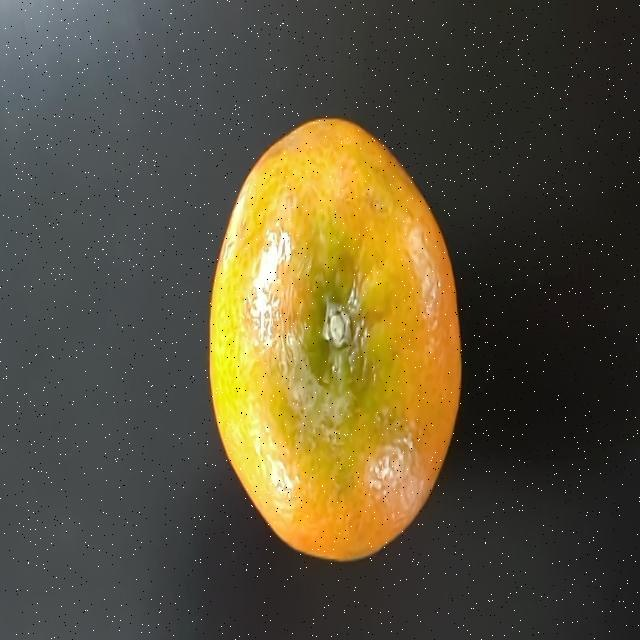Jeruk Mandarin: (208, 108, 464, 572)
